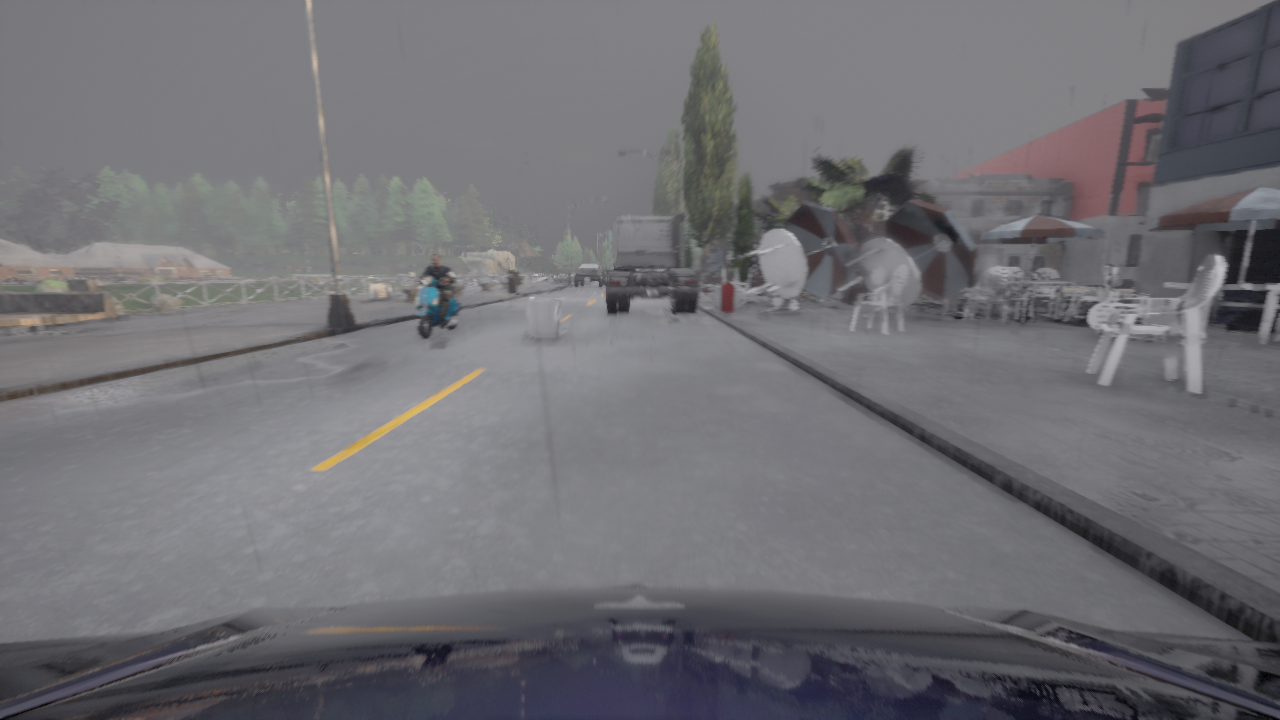cyclist: (0, 584, 1279, 719), (605, 213, 699, 313), (409, 272, 459, 337), (573, 263, 605, 287)
